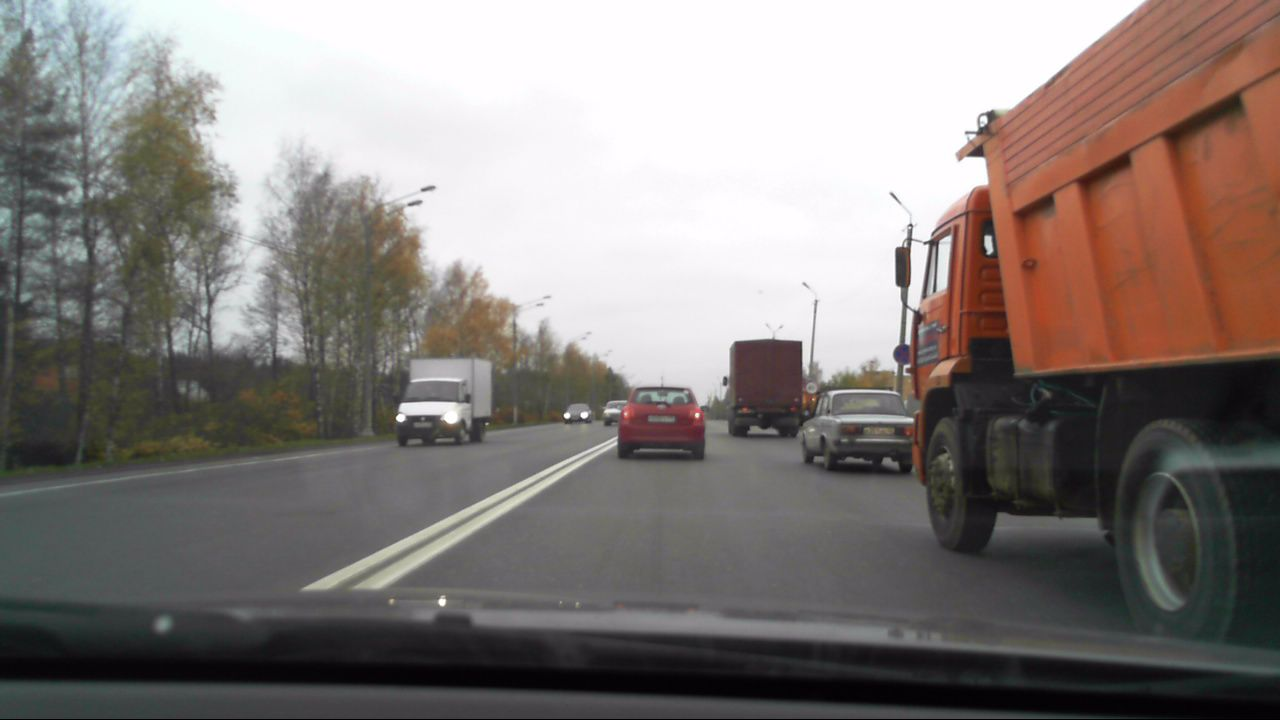No Parking: (890, 343, 913, 367)
